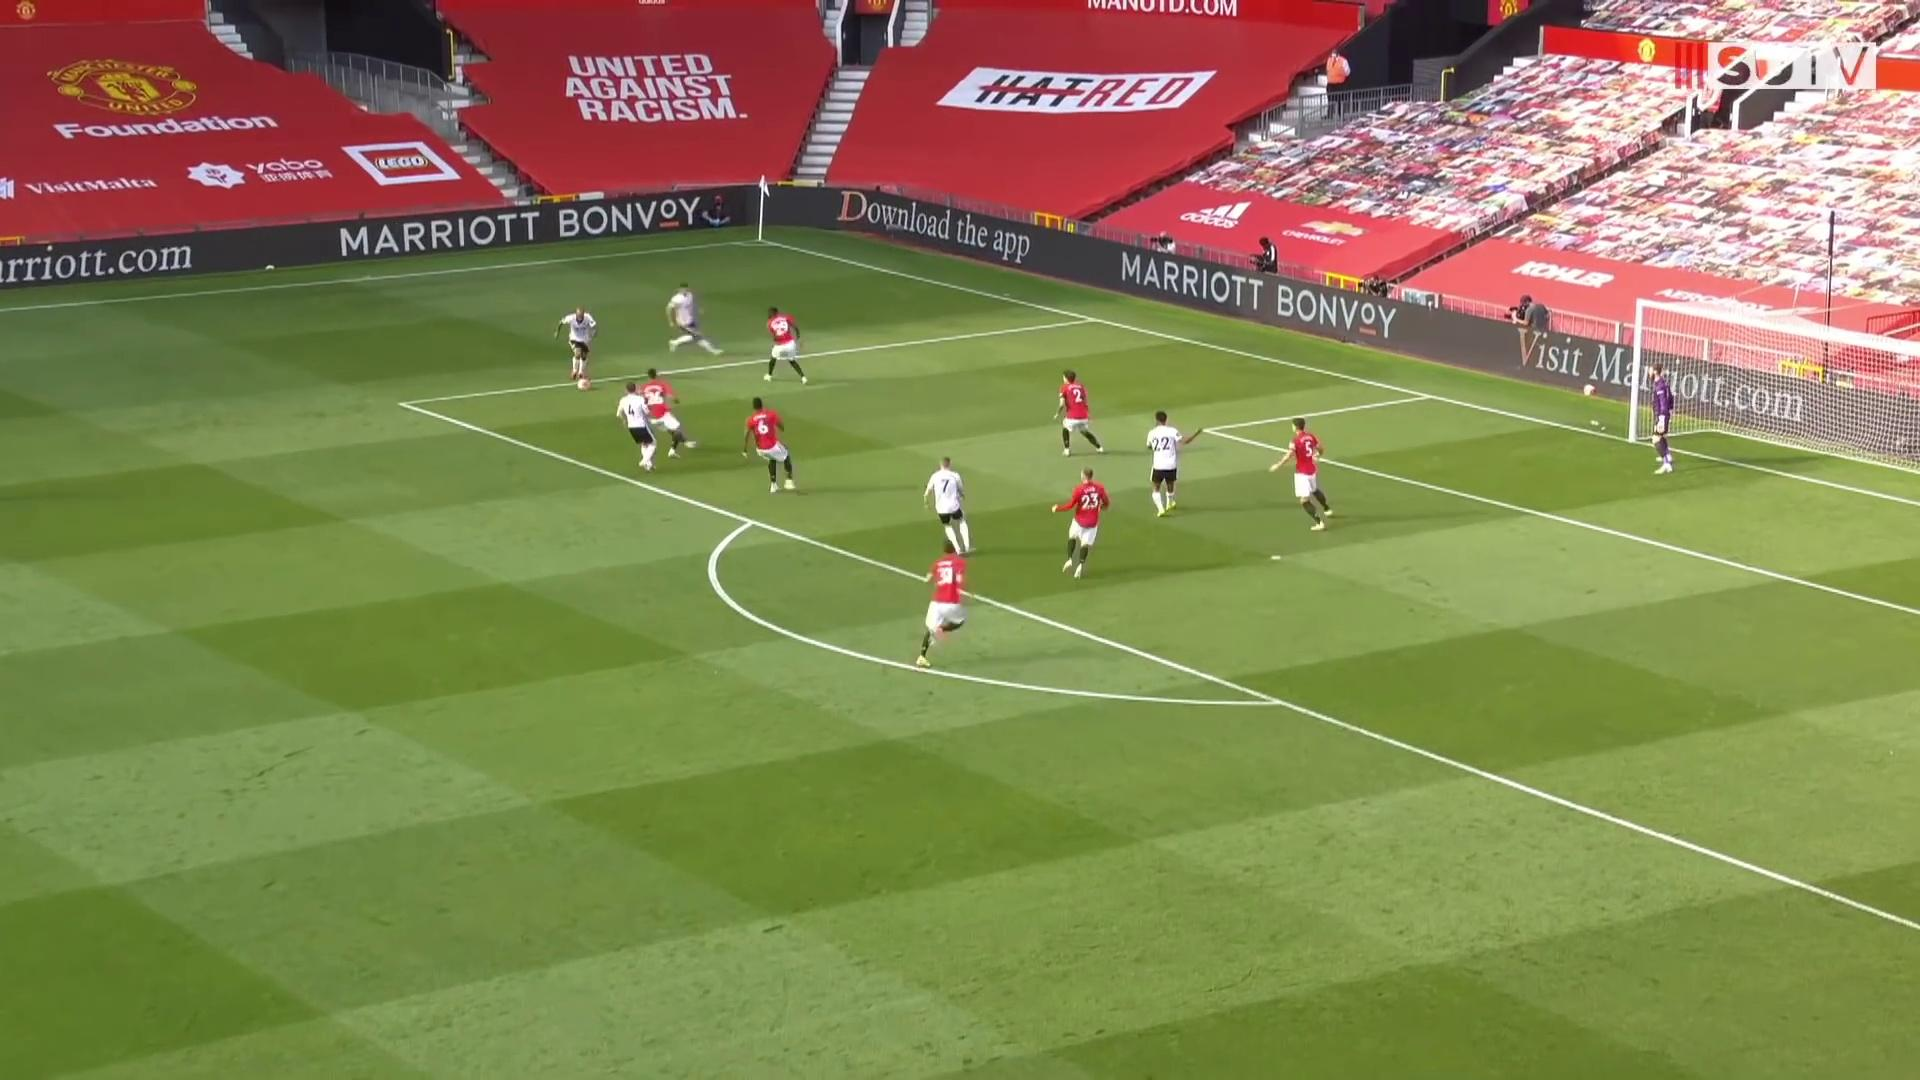ball: (572, 374, 594, 393), (1580, 382, 1598, 398)
goalkeeper: (1646, 360, 1678, 478)
player: (910, 542, 972, 672), (1269, 414, 1334, 535), (1049, 466, 1113, 582), (1144, 406, 1204, 522), (742, 395, 800, 495), (642, 367, 702, 462), (921, 453, 973, 559), (1051, 367, 1106, 460), (663, 281, 723, 362), (619, 377, 668, 473), (758, 305, 811, 390), (553, 304, 599, 384)
